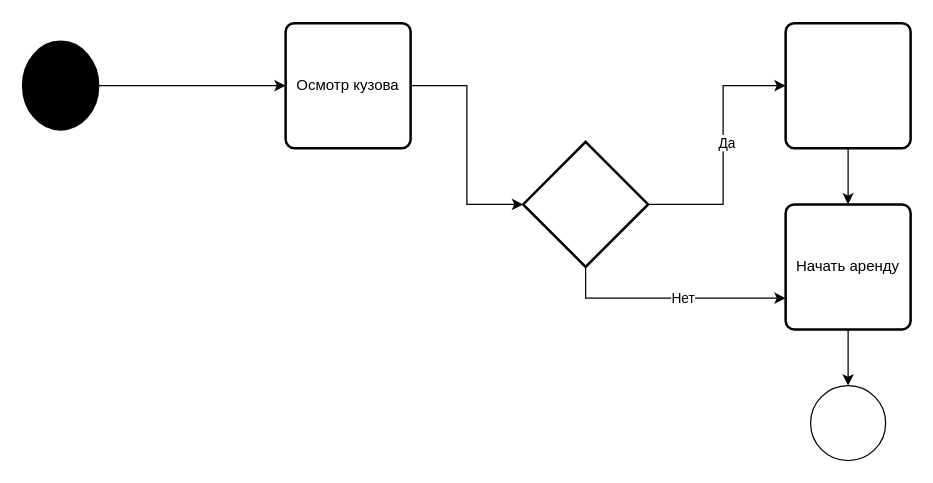
Image size: 933x483. Some labels were removed from this diagram. The shapes that lost their labels are listed below. From the top down, each one's centre as x and y in pixels, then its label:
At point (847, 85): "Сделать фото".
At point (585, 204): "Есть повреждения?".
